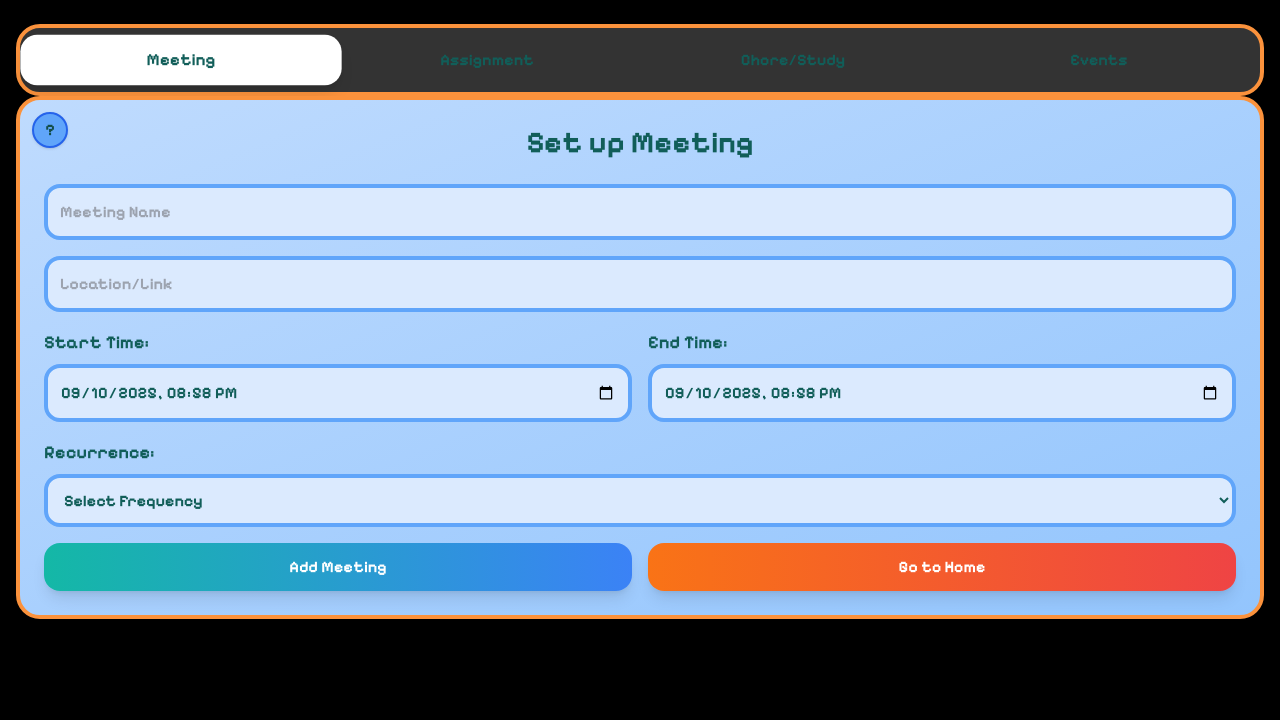
EventSelection submit flow › shows a popup when backend responds with error
Click the button with test id "nav-events". click: [1099, 60]
box: [946,36,1252,84]
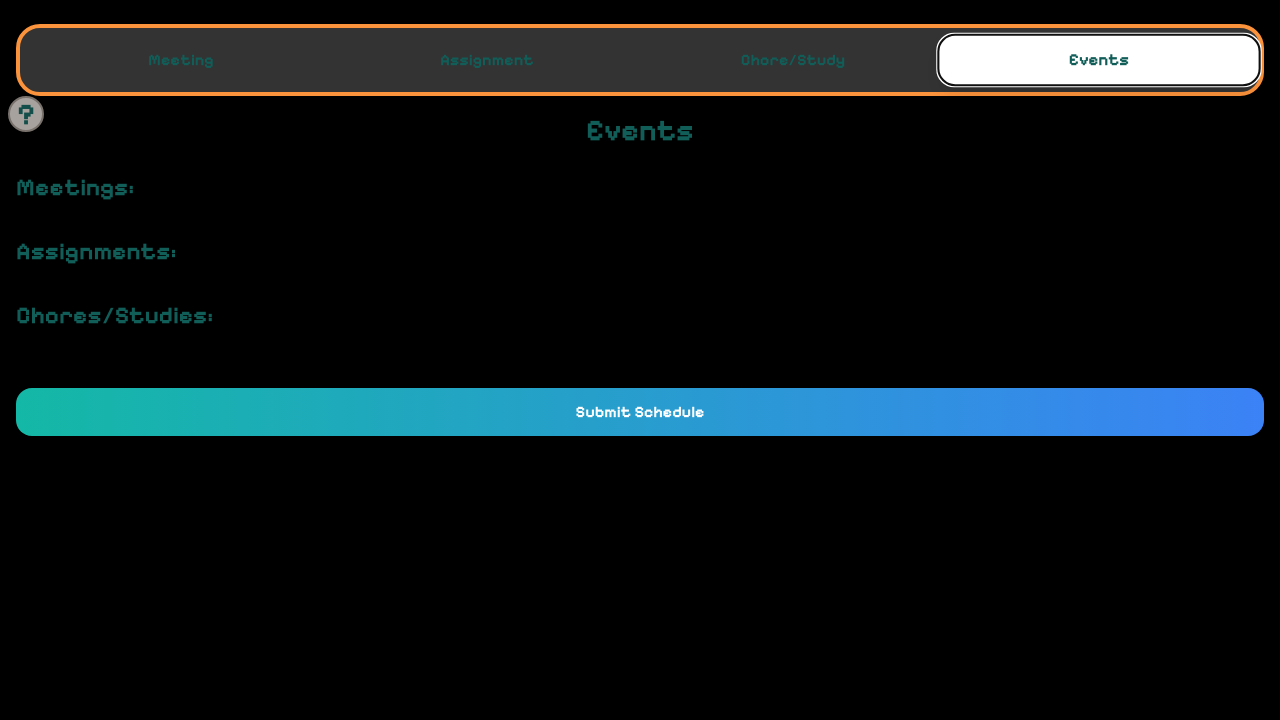
Click the button with test id "submit-schedule". click: [640, 412]
box: [16,388,1264,436]
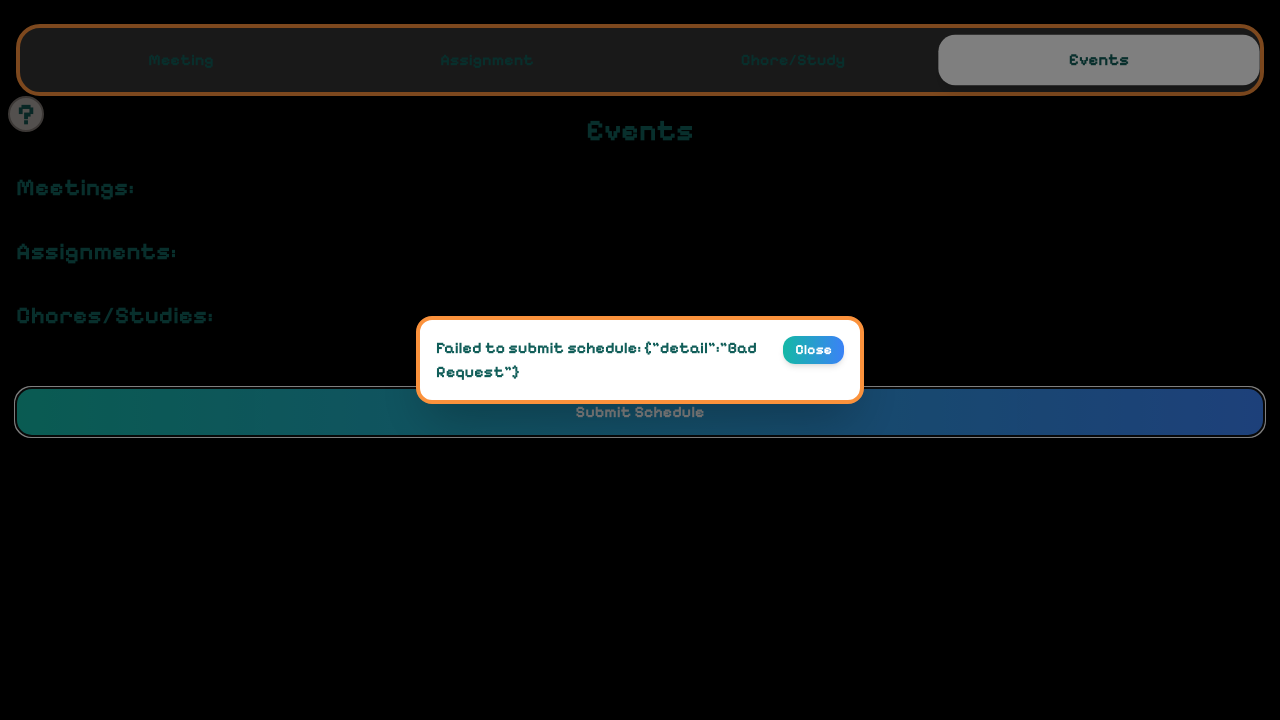
Result: the element with test id "app-popup" is shown
